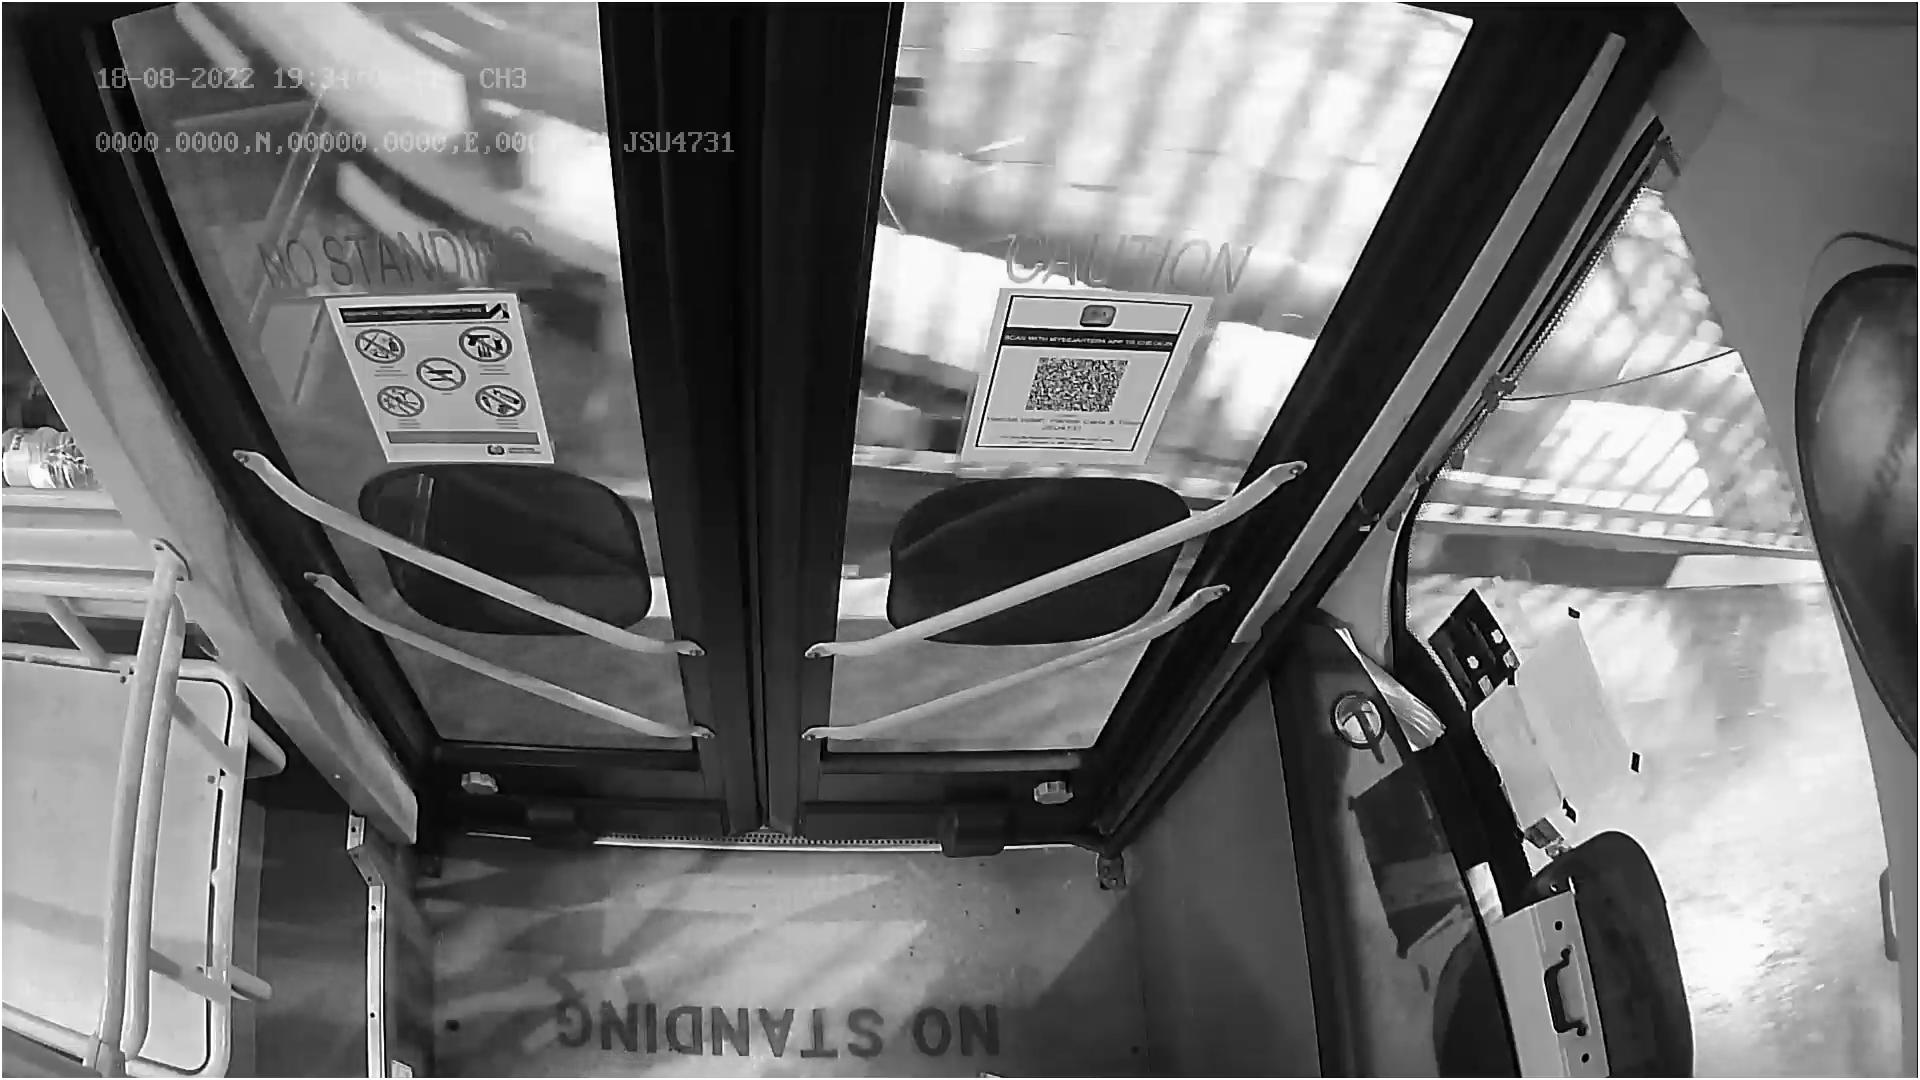close: (131, 0, 1441, 166)
